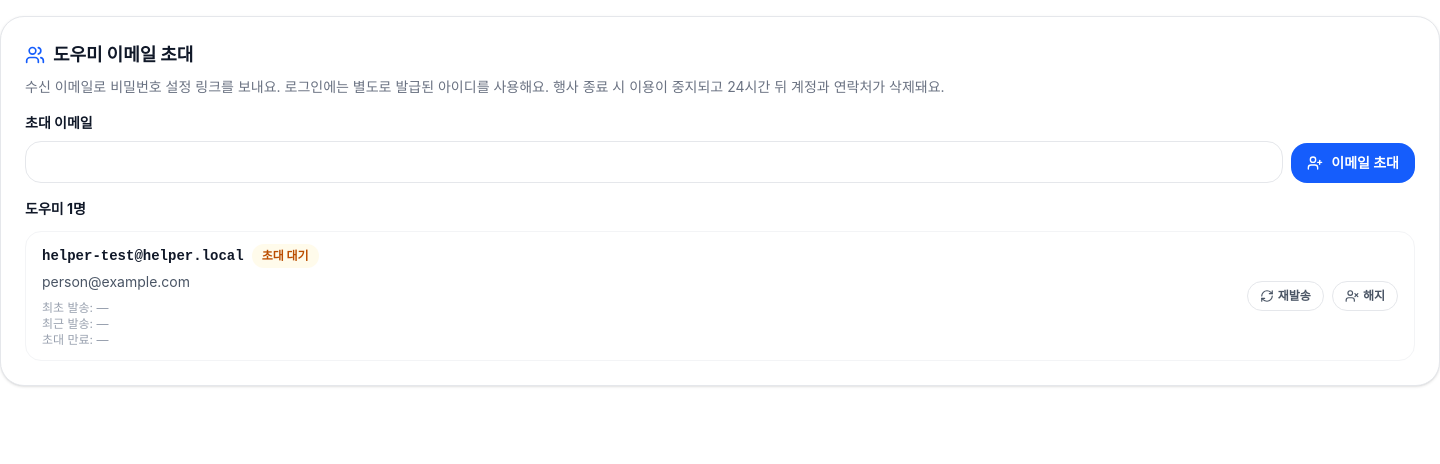
it: HOST helper invitations › reloads saved failed invitation after SMTP failure
Type "person@example.com" into the field labelled "초대 이메일" at (654, 162), box [25,141,1283,183]
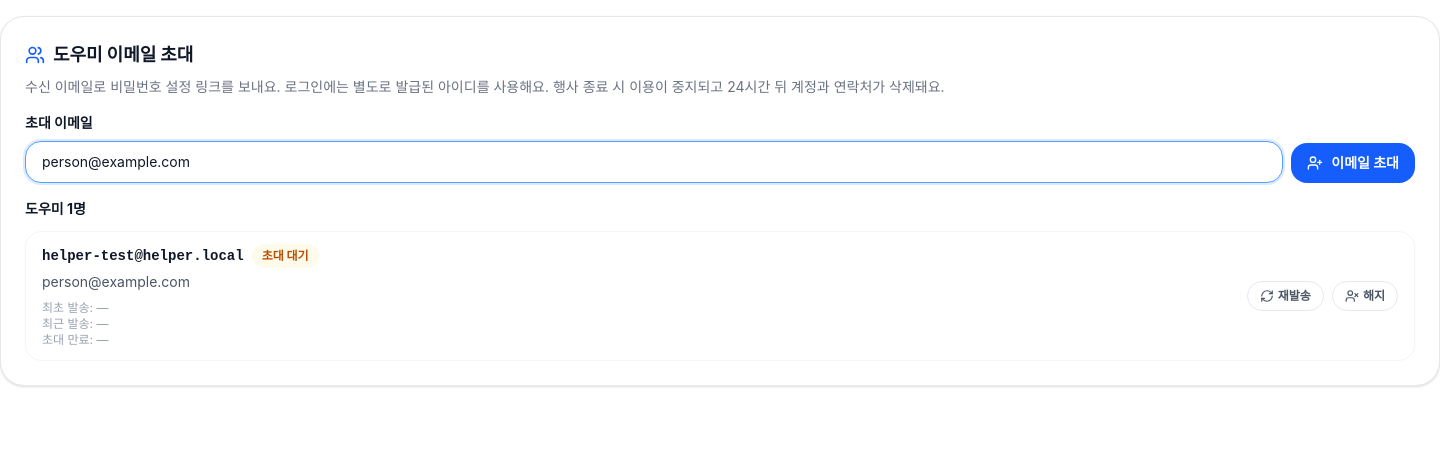
Click the button "이메일 초대" at (1353, 163), box [1291,143,1415,183]
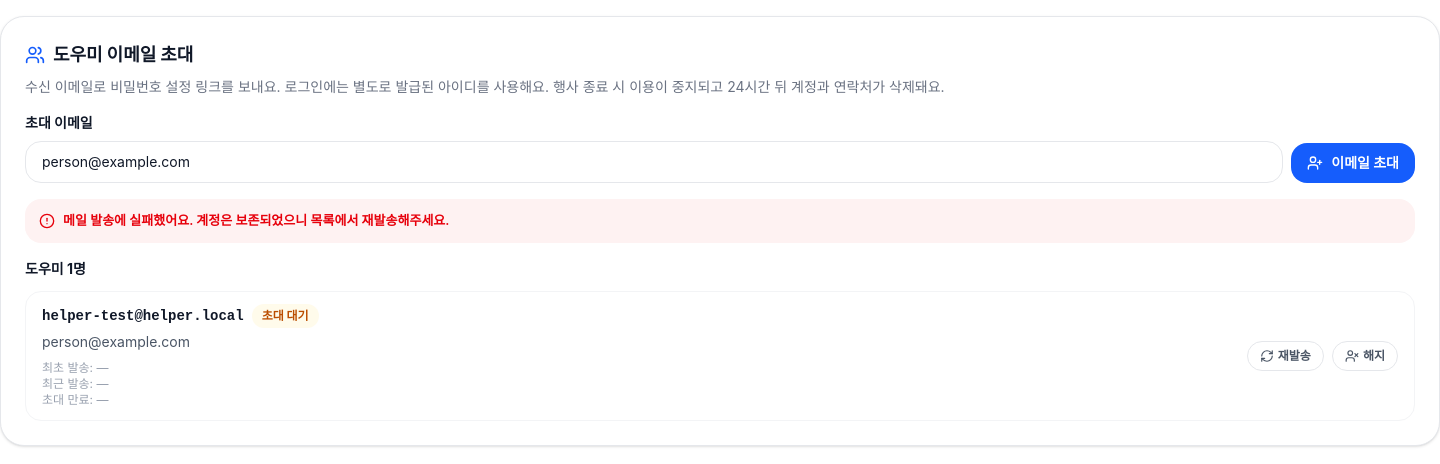
Now the message shows "계정은 보존", box [63,212,450,228]
